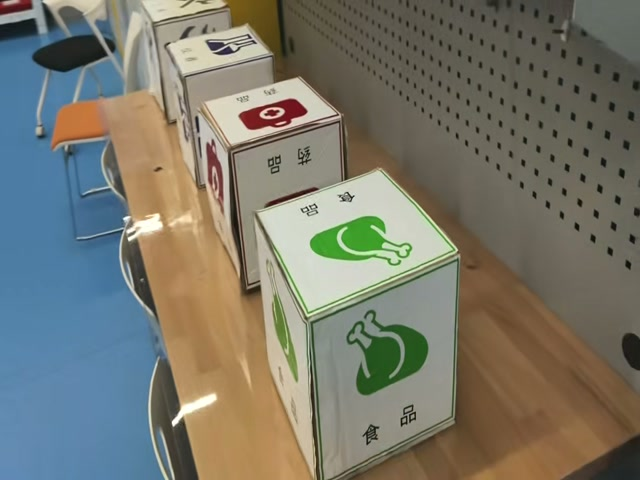Cube_food: (258, 168, 466, 327)
Cube_ins: (168, 23, 268, 78)
Cube_medicine: (206, 74, 340, 153)
Cube_tool: (139, 0, 232, 26)
